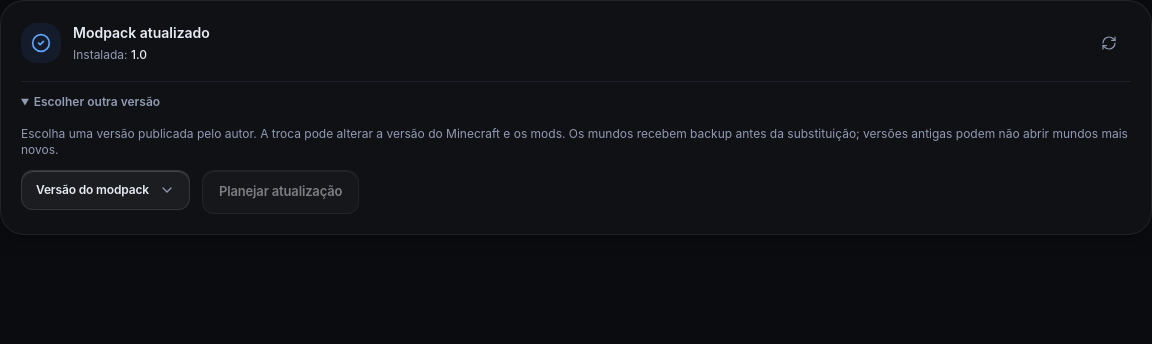
modpack version replacement › keeps the instance unchanged when planning fails
This screenshot has width=1152, height=344.
Click the button "Versão do modpack" at (106, 190), box [21,170,190,210]
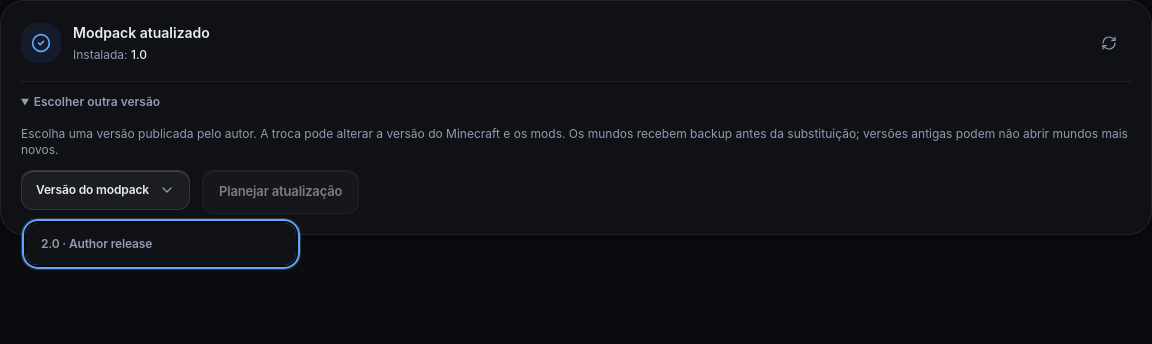
Click the option "2.0 · Author release" at (97, 244), box [26,223,296,265]
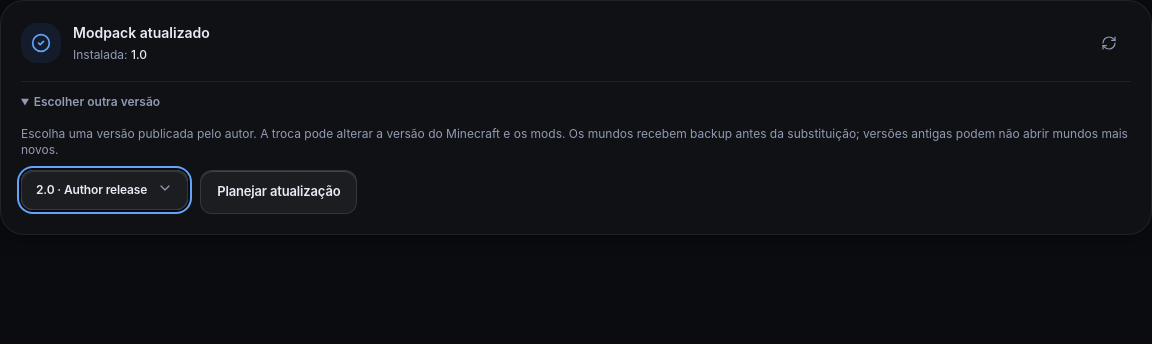
Click the button "Planejar atualização" at (279, 192), box [200,170,358,214]
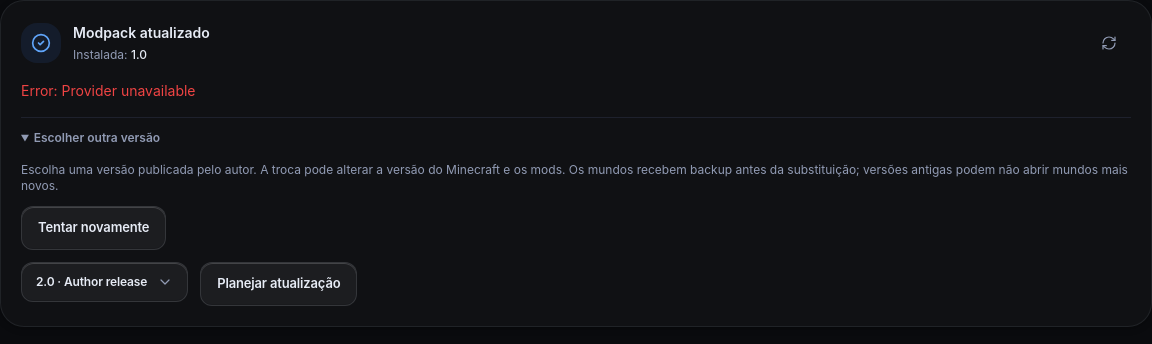
Check: the message "Error: Provider unavailable" is shown, box [21,82,196,99]
